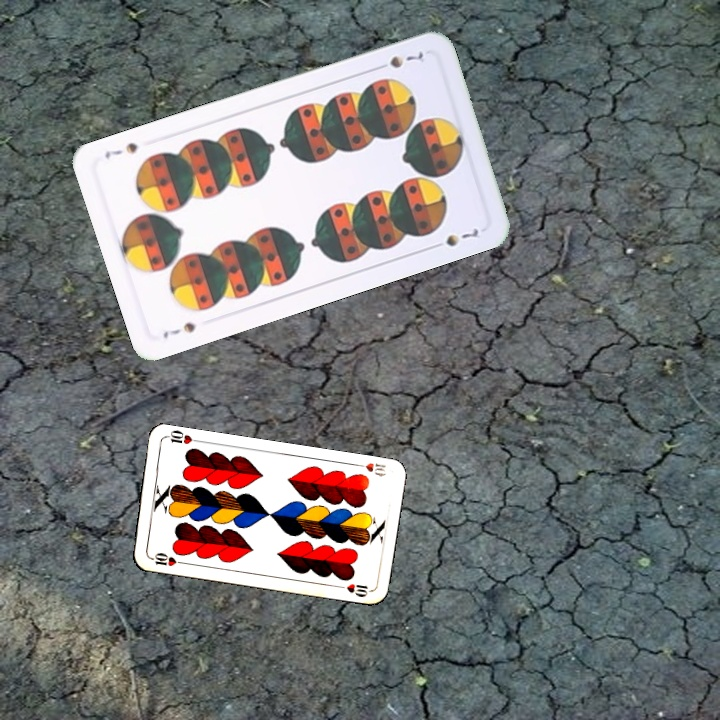H10: (145, 548, 186, 569), (350, 458, 388, 479)
S7: (371, 47, 426, 73), (159, 318, 199, 341)
